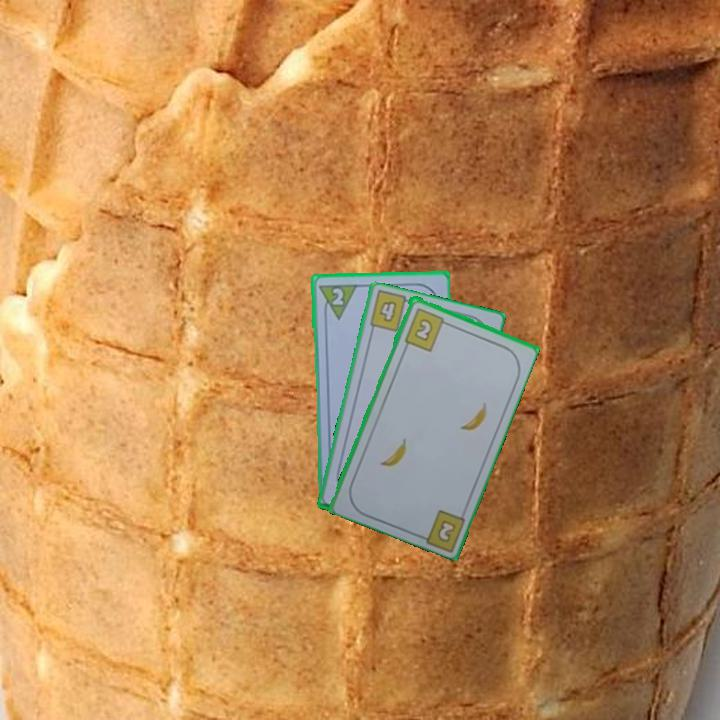2b: (401, 304, 452, 354), (435, 516, 459, 543)
2p: (315, 280, 359, 322)
4b: (375, 297, 399, 325)
